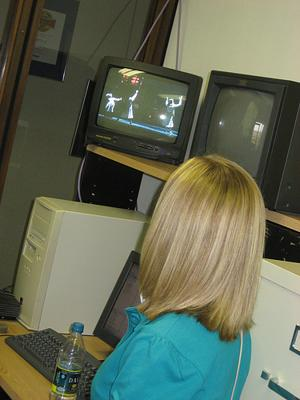person: (91, 155, 265, 400)
